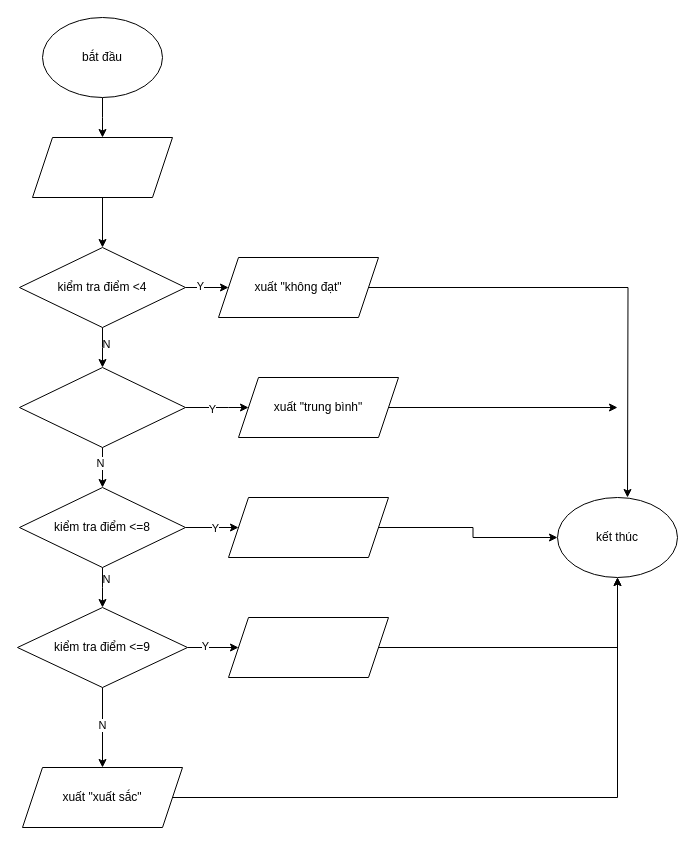
Some shapes in this 695 by 845 pixel diagram are drawn without their labels. The centre of each missing label's shape, as x and y in pixels:
kiểm tra điểm <=6: point 102,407
nhập vào điểm số: point 102,167
xuất "giỏi": point 308,647
xuất "khá": point 308,527
